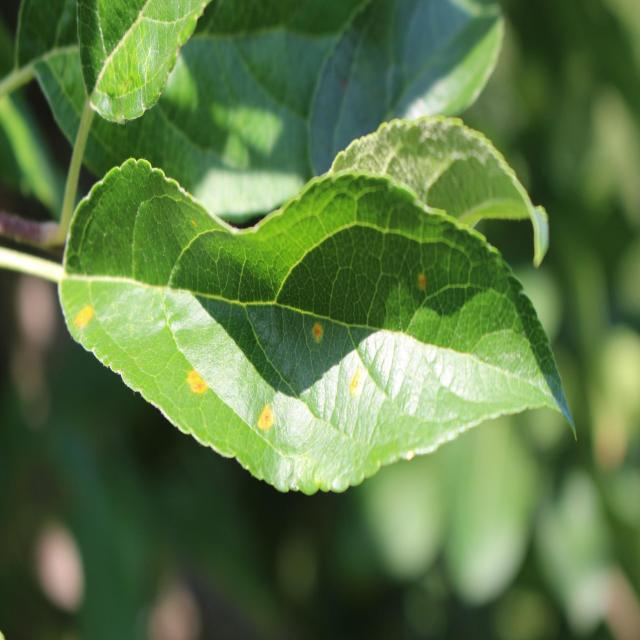Rust: (294, 290, 332, 360), (175, 354, 212, 416), (248, 389, 280, 454), (69, 289, 103, 346), (339, 359, 366, 415), (403, 266, 440, 306)
